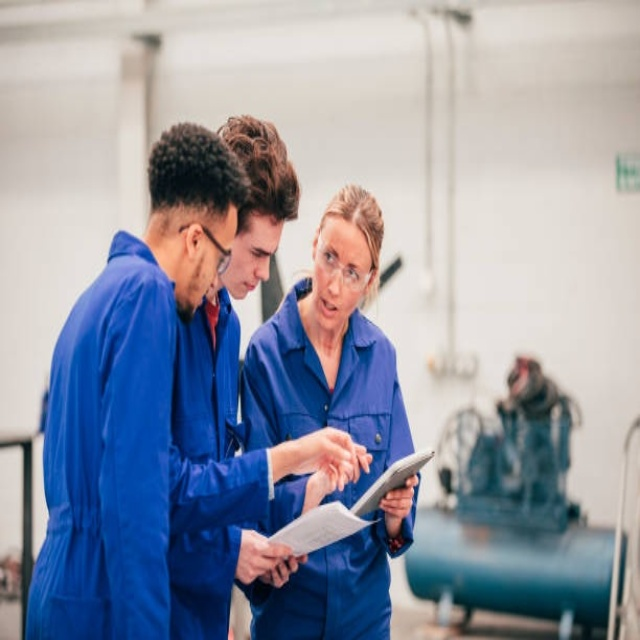Gafas: (316, 234, 372, 294), (177, 221, 233, 276)
Sin_gafas: (233, 237, 280, 268)
Sin_guantes: (235, 526, 302, 589), (309, 426, 370, 493), (379, 474, 418, 526)
Sin_mascara: (317, 293, 342, 333), (237, 273, 270, 300), (188, 279, 214, 312)
